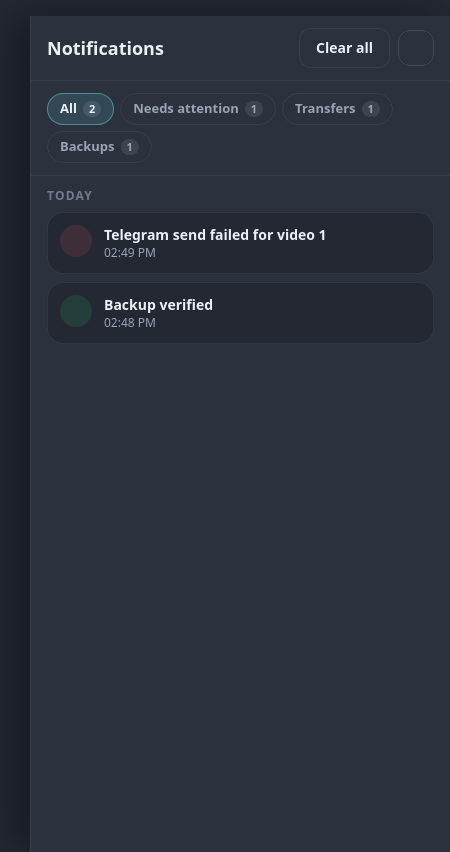
Test case: NotificationsDrawer › lists the notices by day, with a count on each kind, and filters by kind
Expected: the text "Telegram send failed for video 1" is shown, [104, 225, 327, 244]
Expected: the text "Backup verified" is shown, [104, 295, 213, 314]
Click the tab "Backups 1": (99, 147) [47, 131, 152, 163]
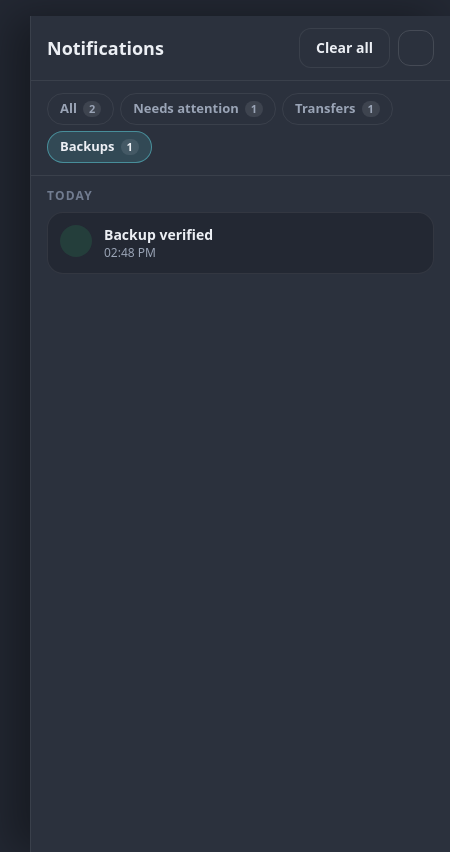
Expected: the text "Backup verified" is shown, [104, 225, 213, 244]
Expected: the text "Telegram send failed for video 1" is gone
Click the tab "Needs attention 1": (198, 109) [120, 93, 276, 125]
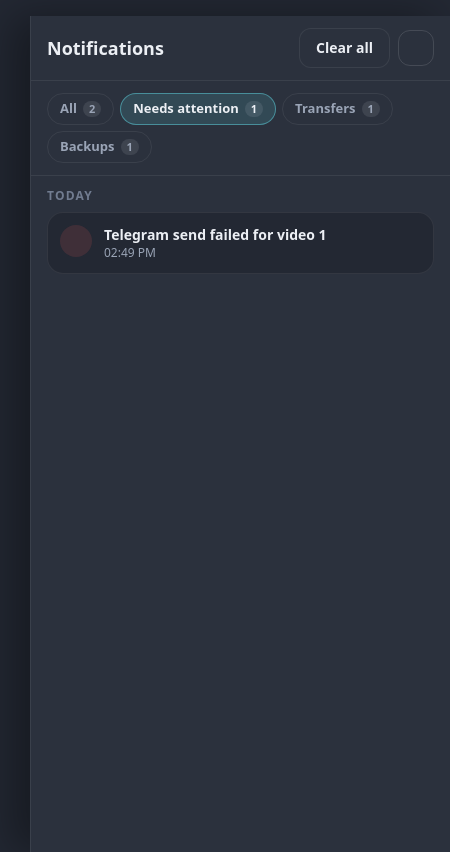
Expected: the text "Telegram send failed for video 1" is shown, [104, 225, 327, 244]
Expected: the text "Backup verified" is gone
